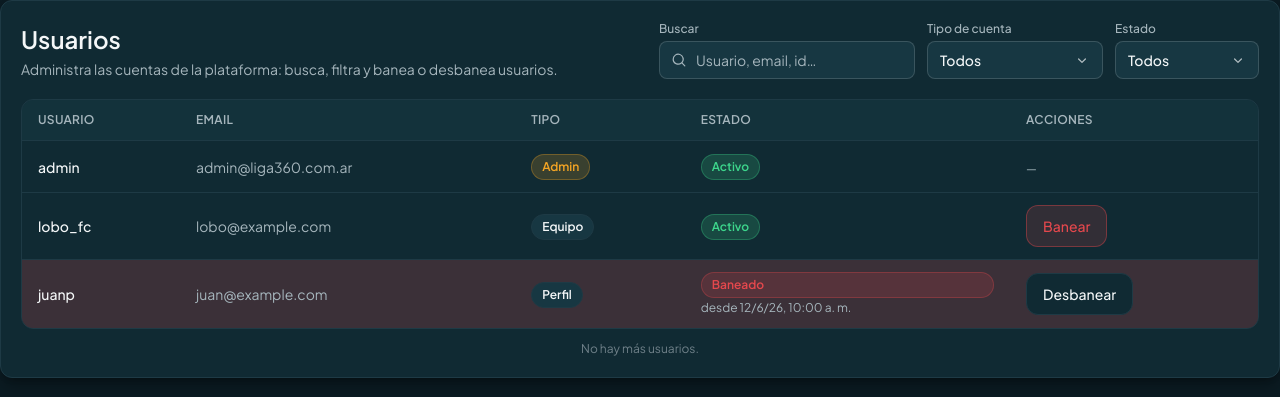
Scenario: AdminUsersPage › filtra por texto
Expected: the text "lobo_fc" is shown, [22,192,180,260]
Type "juan" into the search field labelled "Buscar". click: (787, 60)
box: [659,41,915,79]
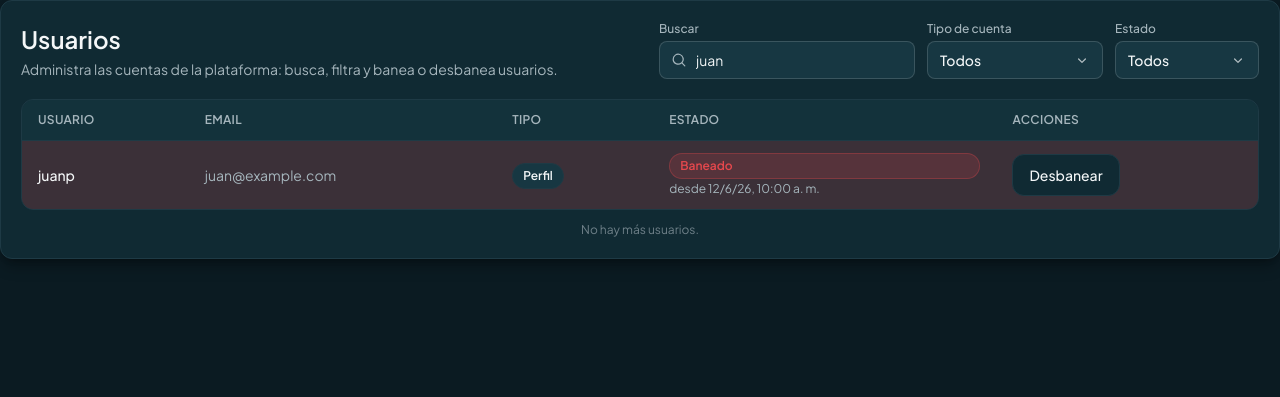
Expected: the text "juanp" is shown, [22,140,189,209]
Now the text "lobo_fc" is gone
